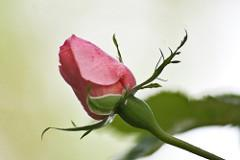Rose: (57, 30, 139, 122)
